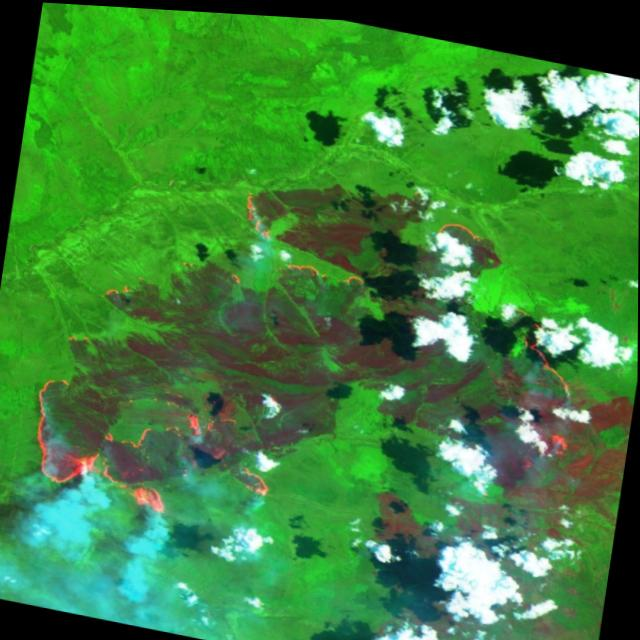fire: (17, 370, 286, 534)
